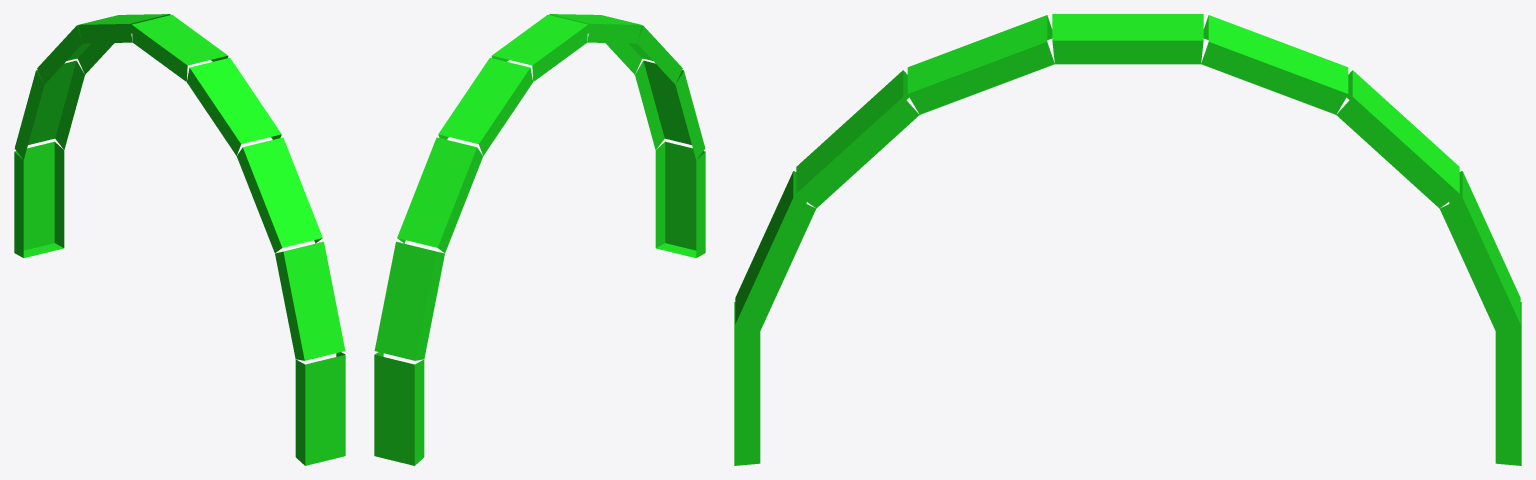
The model's file is PointsArc.fbx.
3 renders of one model, left to right at view 1: azimuth 30°, elevation 25°; view 2: azimuth 150°, elevation 25°; view 3: azimuth 270°, elevation 25°, orthographic. The views are drawn at different scales.
Visible parts, largest first — view 1: Cylinder; view 2: Cylinder; view 3: Cylinder.
Part boxes in pixels (left/top/right/bottom): Cylinder: left=14, top=14, right=345, bottom=465; Cylinder: left=374, top=14, right=705, bottom=465; Cylinder: left=734, top=14, right=1521, bottom=465.
Bounding box in the file's own units: 1512 × 122 × 901.
